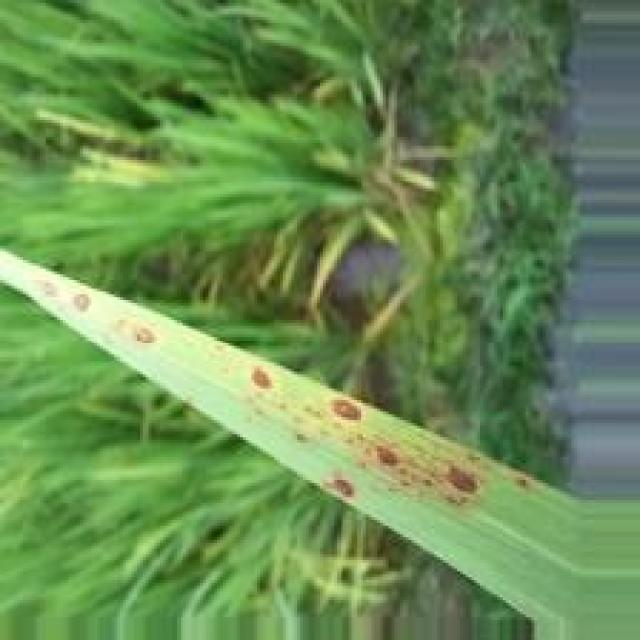Brown_Spot: (444, 464, 477, 490), (370, 443, 401, 467), (329, 399, 361, 419), (325, 476, 355, 496), (249, 368, 271, 390)
